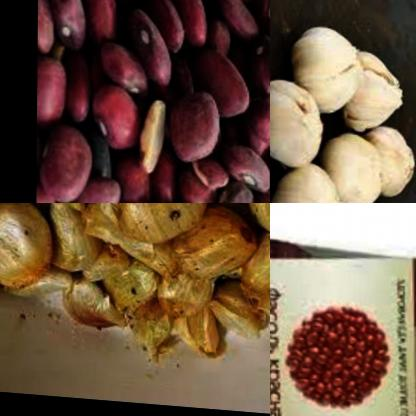fasol: (36, 0, 270, 203), (287, 300, 395, 413), (270, 216, 320, 416)
garlic: (0, 203, 270, 379), (356, 109, 416, 203), (326, 122, 392, 203), (293, 26, 356, 110), (270, 73, 324, 168), (343, 45, 402, 130), (270, 158, 345, 203)
